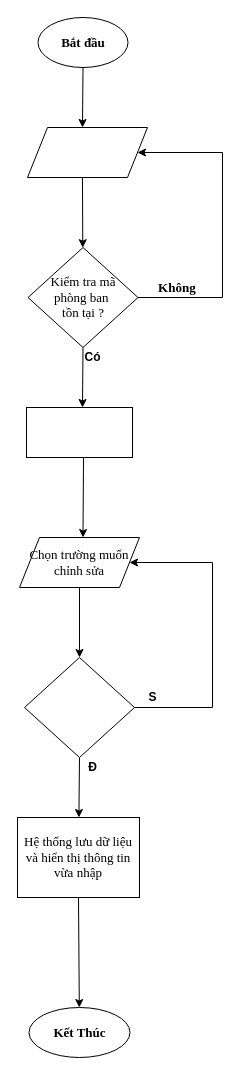
The diagram is 248 pixels wide and 1075 high, and some of its shapes have lost their labels. The centre of each missing label's shape, as x and y in pixels:
"Hiển thị thông tin phòng ban vừa nhập" goes at (79,432).
"Kiểm tra dữ liệu nhập vào" goes at (79,707).
"Nhập mã phòng muốn sửa" goes at (87,152).
